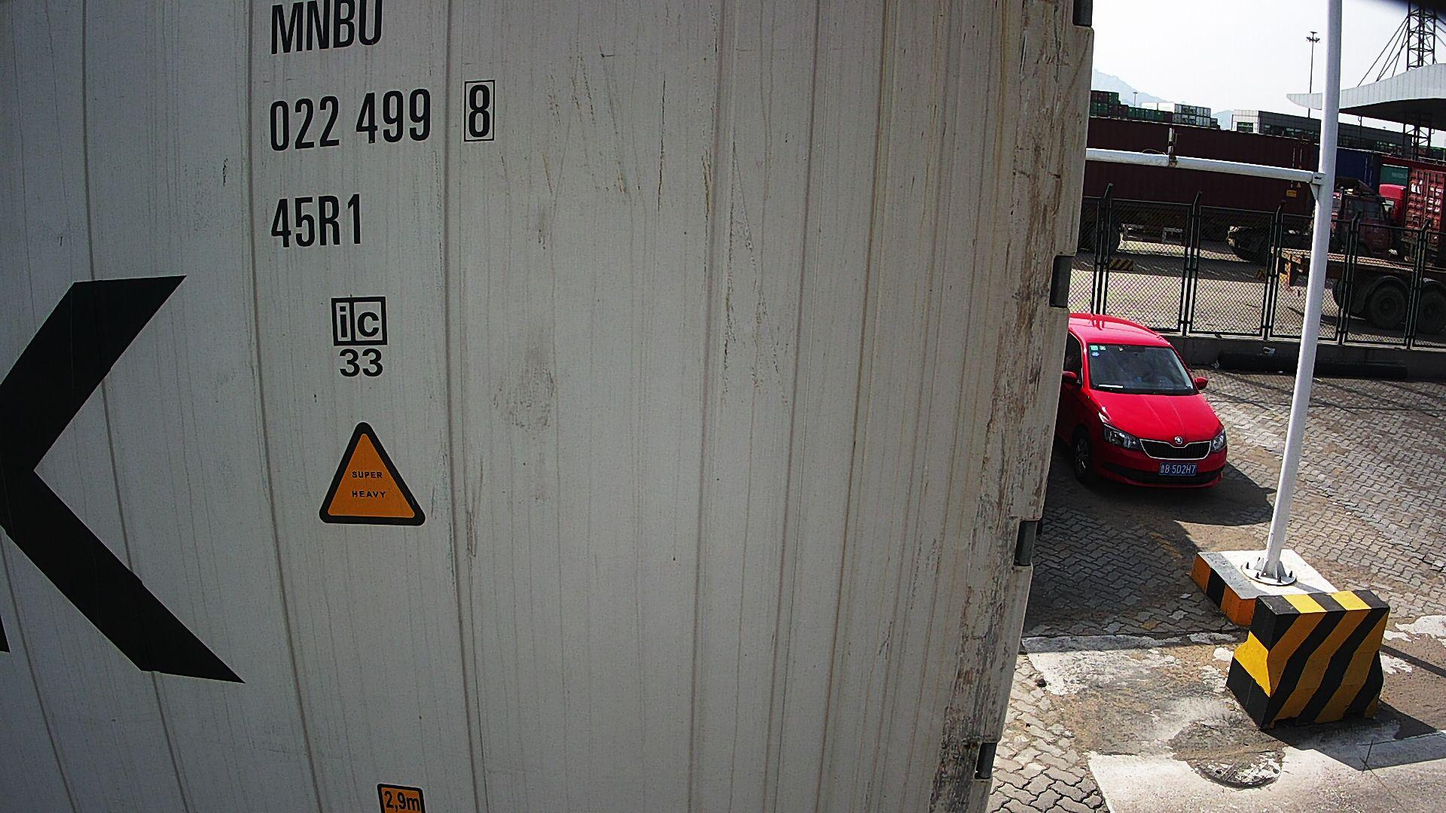container-numbers: (261, 78, 503, 156), (265, 0, 388, 58), (267, 190, 368, 253)
